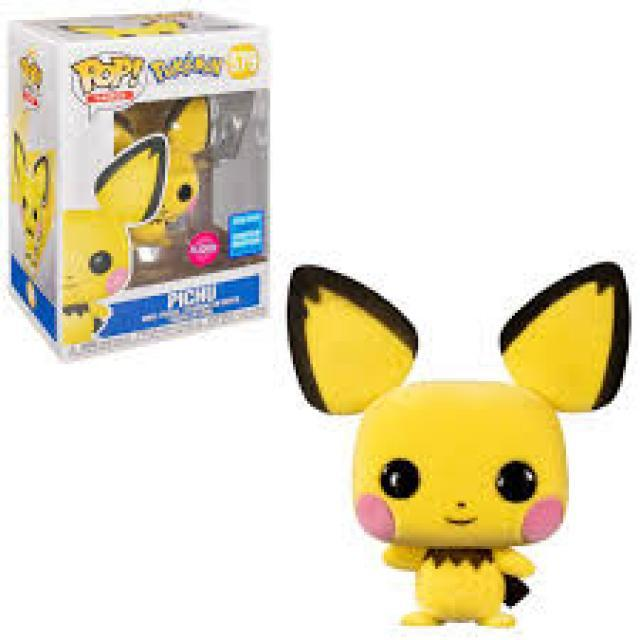pichu: (280, 250, 640, 640)
